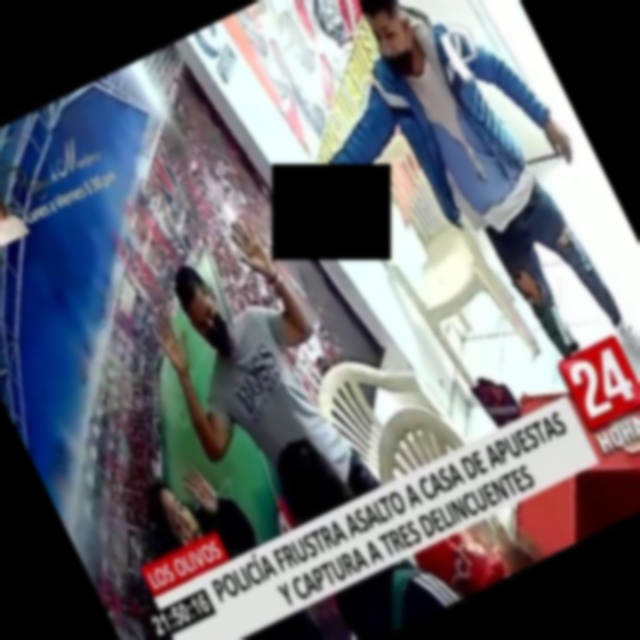gun: (277, 152, 362, 164)
